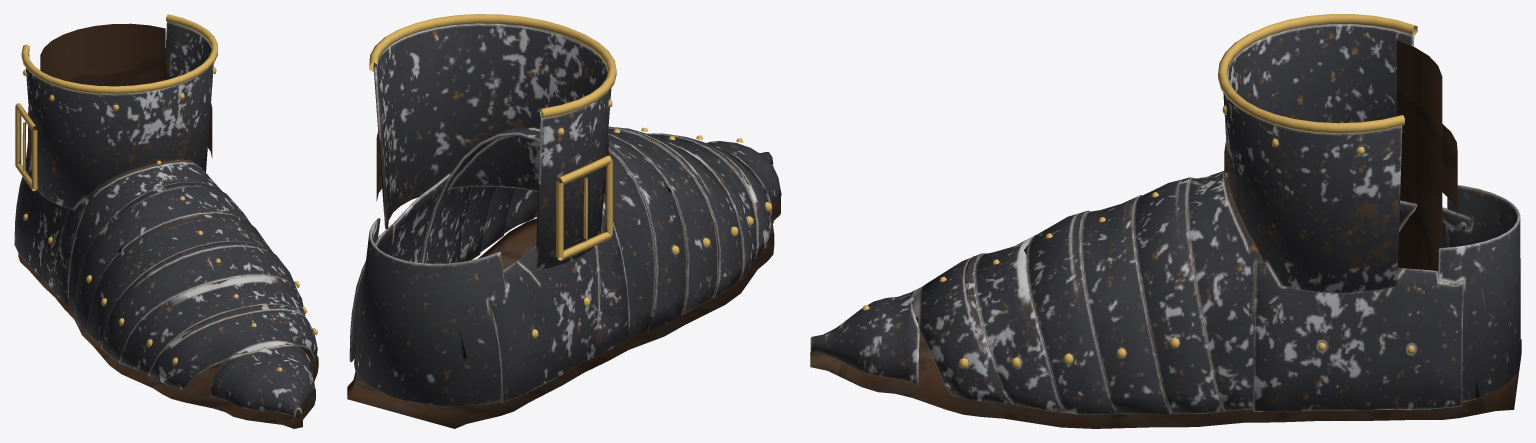
File: SM_EagleSabatons_R_LOD1.fbx
3 renders of one model, left to right at view 1: azimuth 30°, elevation 25°; view 2: azimuth 150°, elevation 25°; view 3: azimuth 270°, elevation 25°, orthographic. The views are drawn at different scales.
Visible parts, largest first — view 1: SM_EagleSabatons_R_LOD1; view 2: SM_EagleSabatons_R_LOD1; view 3: SM_EagleSabatons_R_LOD1.
Boxes of the visible parts, x1,y1,x2,y2 form: SM_EagleSabatons_R_LOD1: (14, 14, 318, 428); SM_EagleSabatons_R_LOD1: (347, 14, 781, 428); SM_EagleSabatons_R_LOD1: (810, 14, 1521, 428).
Bounding box in the file's own units: 0.1193 × 0.1413 × 0.2953.
